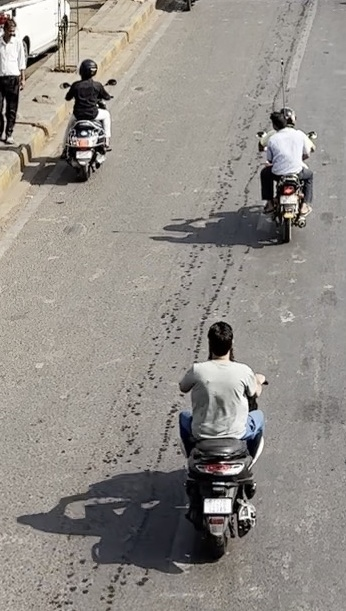BikeWithRider: (173, 313, 271, 559), (253, 103, 320, 246), (57, 55, 118, 183)
Helmet: (76, 58, 101, 81), (278, 106, 299, 130)
NoHelmet: (204, 316, 236, 359), (268, 109, 288, 130)
